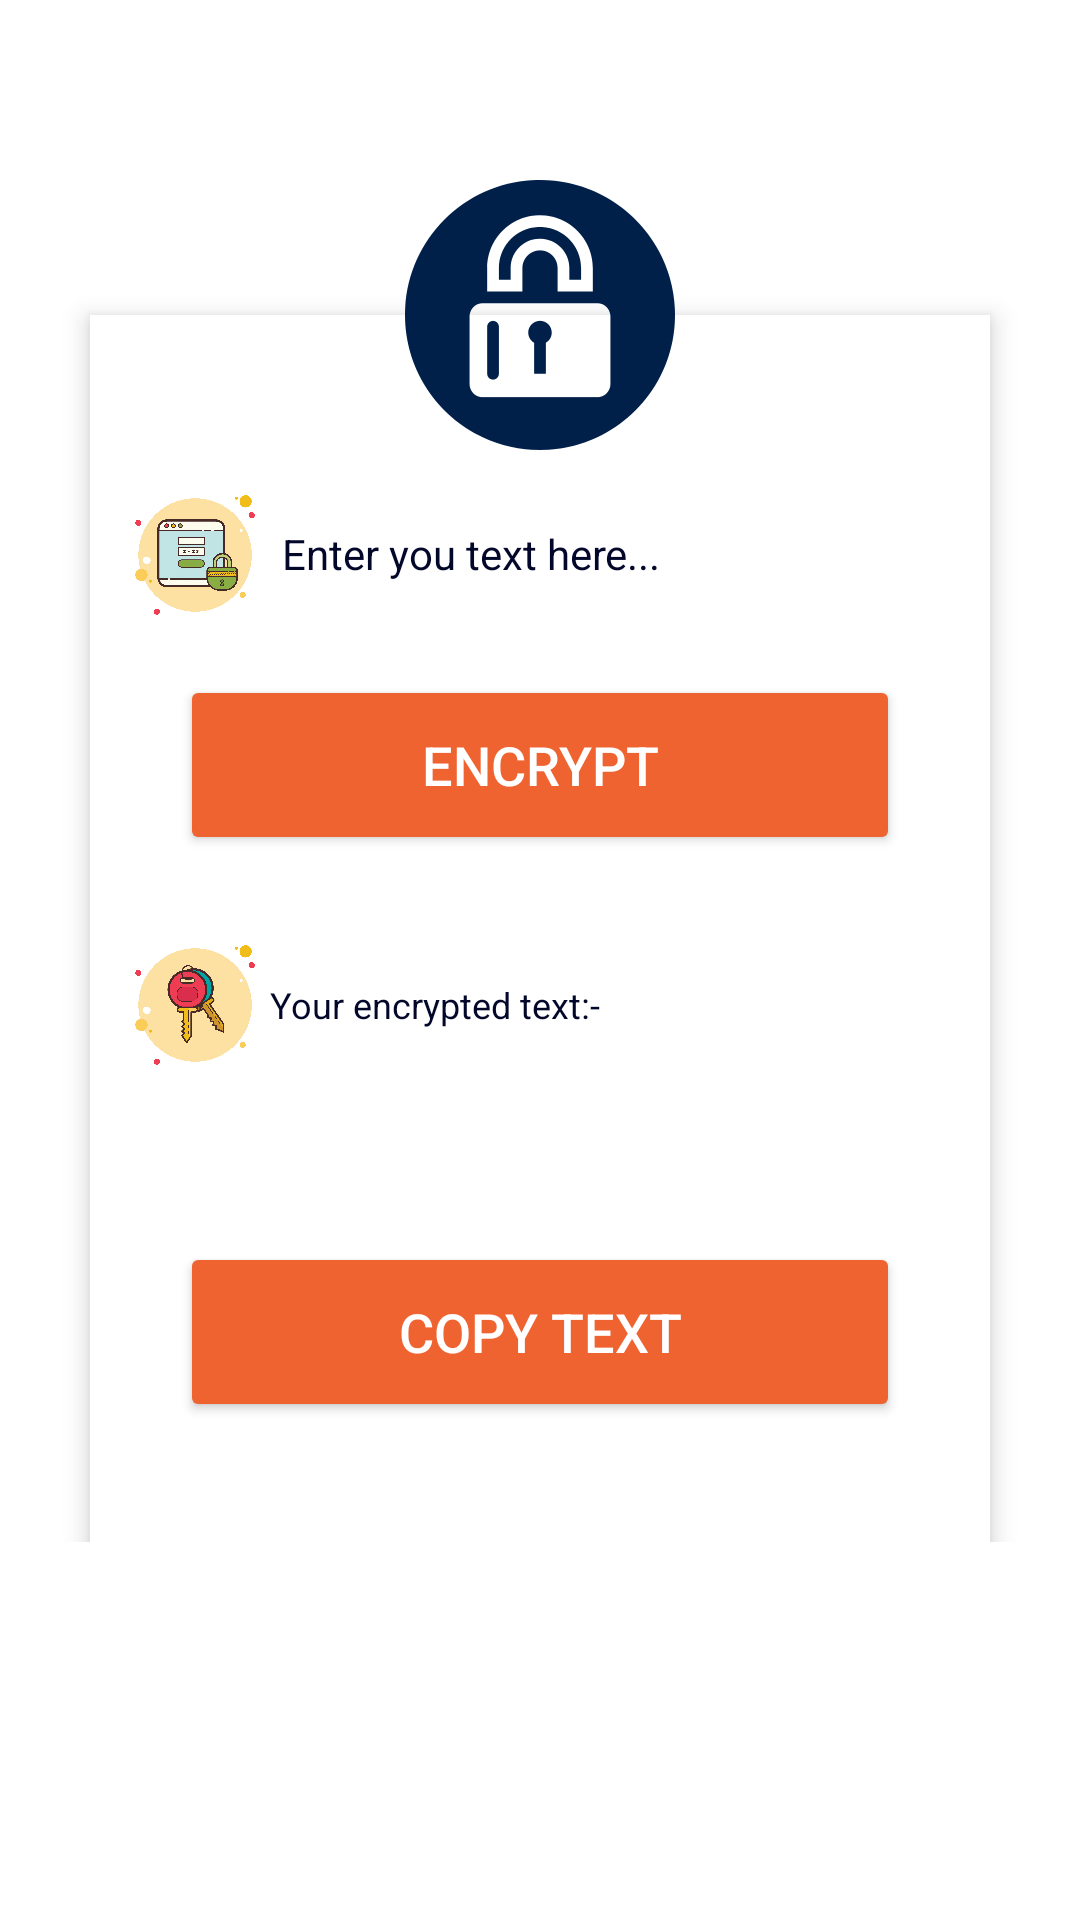

Icons on this 1080×1920 Android screen, each with the point to tap as [x,y]:
cryptable: [540,315]
